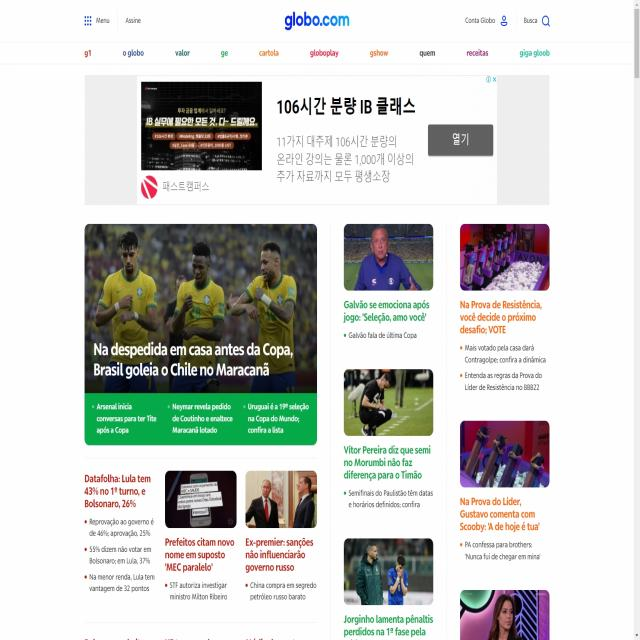menu-bar: (77, 38, 557, 66), (456, 8, 557, 32), (74, 4, 151, 33)
